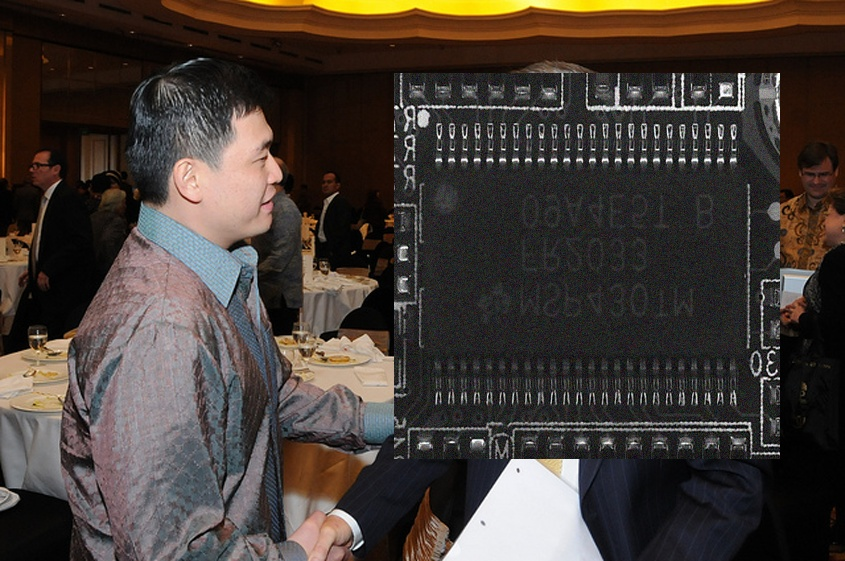PIN: (423, 347, 747, 412), (426, 113, 746, 172)
wineglass: (291, 320, 310, 366), (27, 326, 47, 368), (295, 336, 316, 370), (319, 261, 328, 285)
